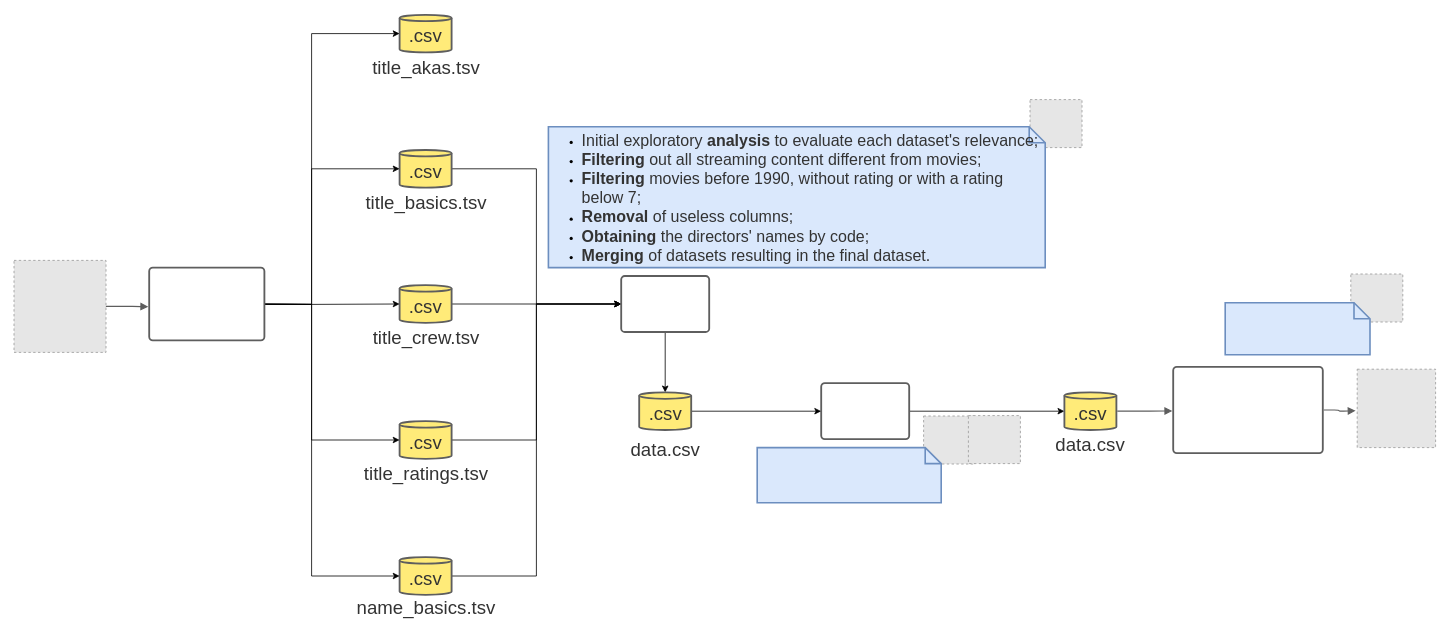
Image size: 1450x636. Some labels were removed from this diagram. Grey dashed boxes stand in for pictures. Each missing label, with the centre of its shape:
"Data Cleaning" goes at [665,304].
"Data Collection from IMDb" goes at [206,303].
"Final Exploratory Analysis w/ Data Visualization" goes at [1247,410].
"S ynopsis scraping using BeautifulSoup ." goes at [849,474].
"Web Scraping" goes at [865,411].
